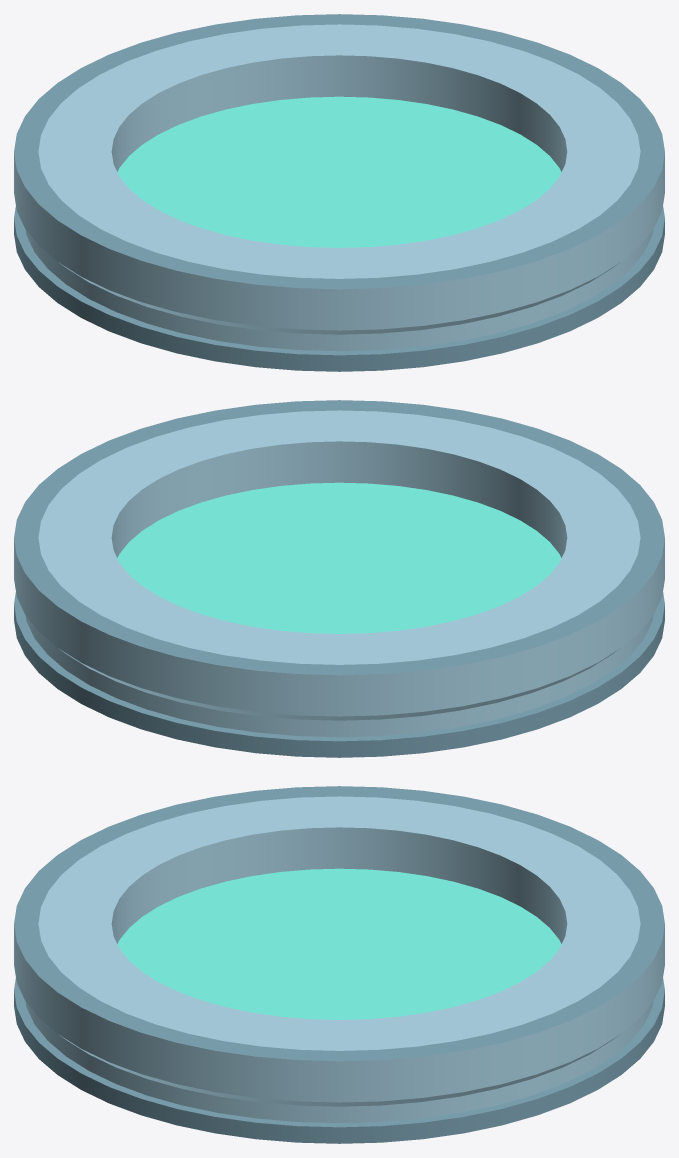
The model's file is fountainRound.fbx.
3 views of the same model, one above another, from view 1: azimuth 30°, elevation 25°; view 2: azimuth 150°, elevation 25°; view 3: azimuth 270°, elevation 25° (orthographic).
Parts seen in each view (by area): view 1: fountainRound; view 2: fountainRound; view 3: fountainRound.
Boxes of the visible parts, x1,y1,x2,y2 form: fountainRound: [14, 14, 664, 371]; fountainRound: [14, 400, 664, 757]; fountainRound: [14, 786, 664, 1143].
Bounding box in the file's own units: 20 × 2.8 × 20.
